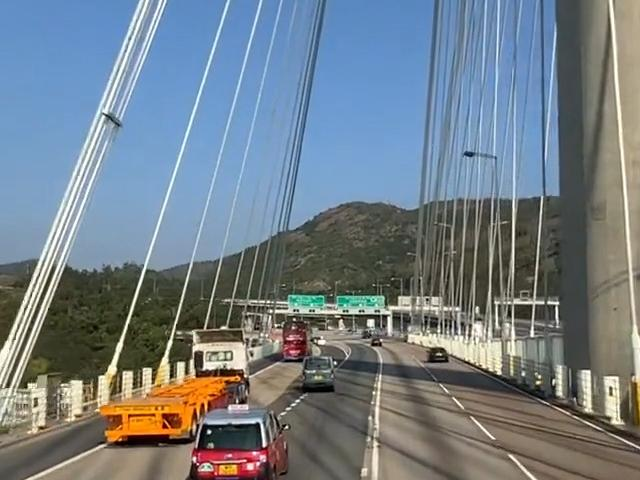car: (100, 325, 253, 442), (183, 410, 300, 480), (293, 347, 348, 398)
